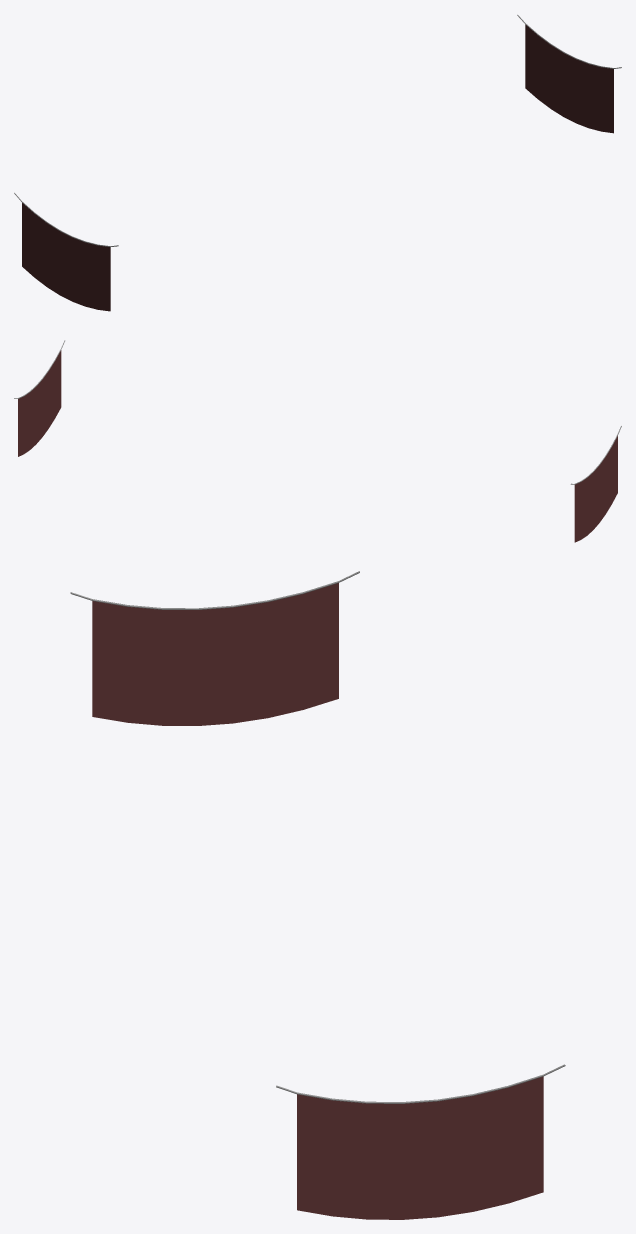
The model's file is banner2.fbx.
The picture shows the model from 3 angles, top to bottom: view 1: azimuth 30°, elevation 25°; view 2: azimuth 150°, elevation 25°; view 3: azimuth 270°, elevation 25°; orthographic projection. The views are drawn at different scales.
Parts seen in each view (by area): view 1: Line023, Line022; view 2: Line023, Line022; view 3: Line022, Line023.
Boxes of the visible parts, x1,y1,x2,y2 form: Line023: (14,192,118,311); Line022: (517,14,621,133); Line023: (570,426,621,542); Line022: (14,340,65,456); Line022: (276,1064,565,1219); Line023: (70,571,359,725).
Size of the model in its own units: 18888 by 2455 by 7676.
